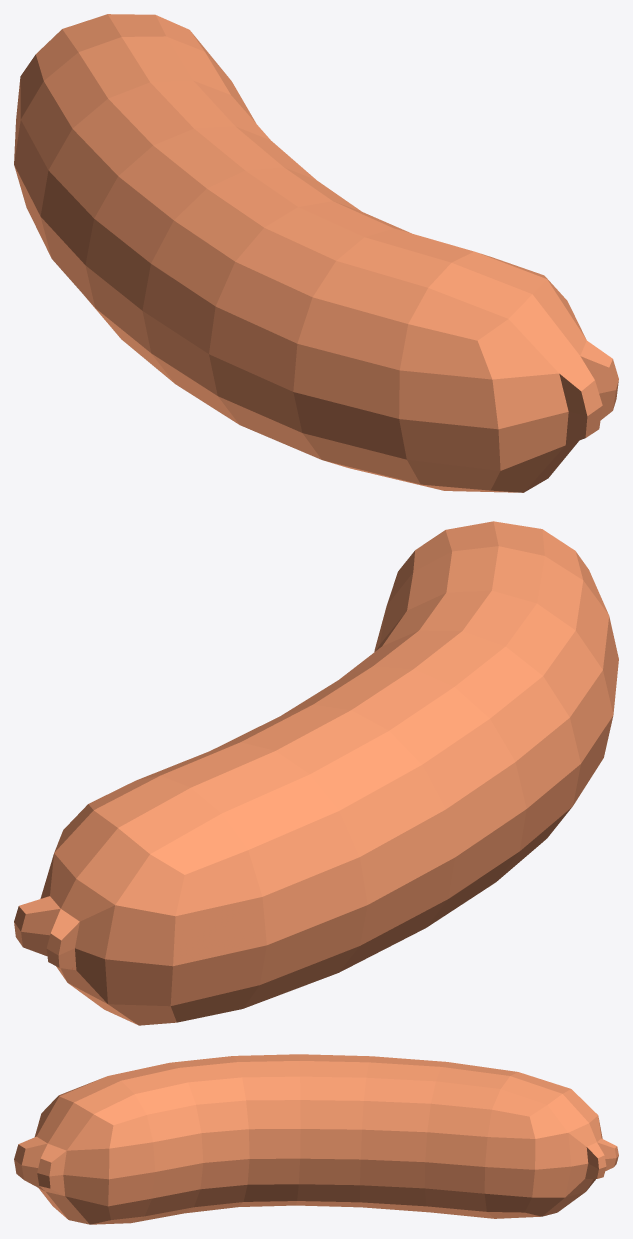
File: Sausage_Updated.fbx
3 views of the same model, one above another, from view 1: azimuth 30°, elevation 25°; view 2: azimuth 150°, elevation 25°; view 3: azimuth 270°, elevation 25° (orthographic). The views are drawn at different scales.
Visible parts, largest first — view 1: Plane; view 2: Plane; view 3: Plane.
Boxes of the visible parts, bbox=[...] form: Plane: bbox=[14, 14, 618, 492]; Plane: bbox=[14, 521, 618, 1025]; Plane: bbox=[14, 1054, 618, 1224].
Bounding box in the file's own units: 22.7 × 16.86 × 67.3.
